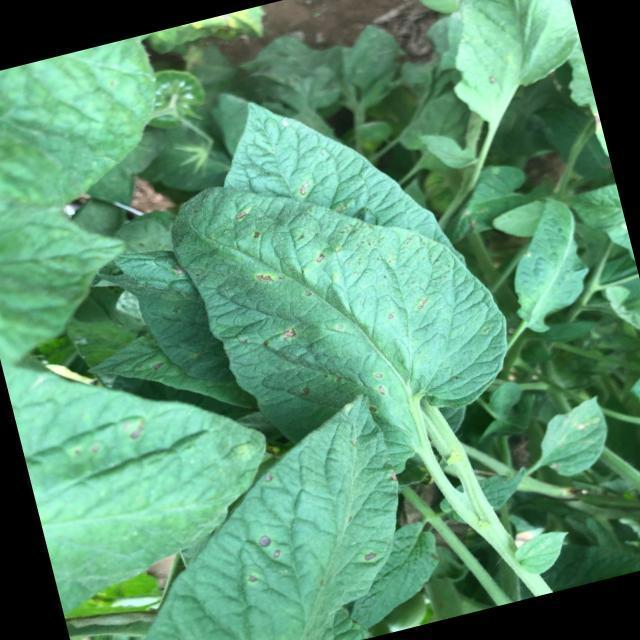Bacterial Spot: (198, 153, 486, 424), (209, 488, 382, 606)
